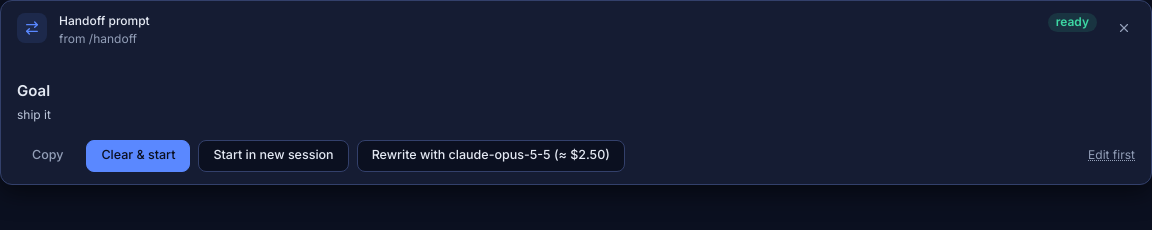
Test: HandoffCardView › cold-cache writer line + Rewrite (spec B6) › a refused Rewrite shows the box's message in the card
Click the button "Rewrite with claude-opus-5-5 (≈ $2.50)" at (491, 156), box left=357, top=140, right=625, bottom=172
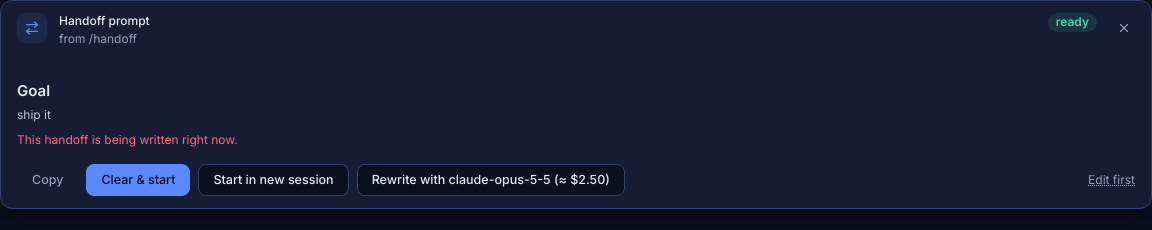
expect the message with test id "handoff-notice" reads "This handoff is being written right now.": met, box left=17, top=132, right=238, bottom=147
